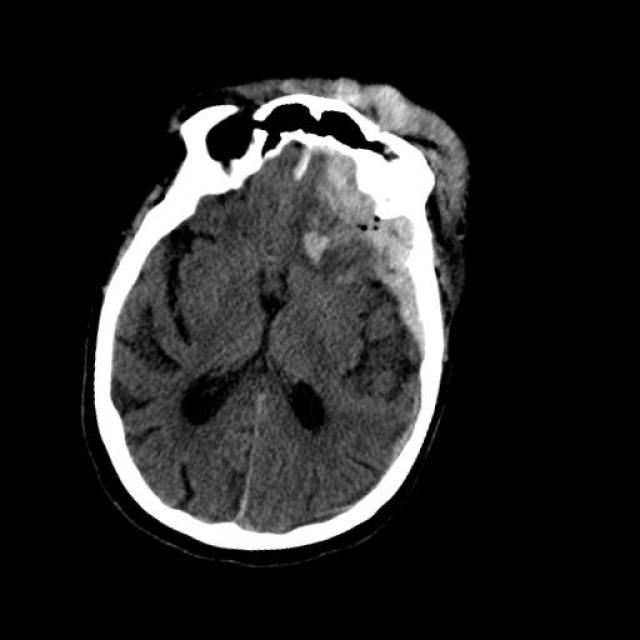Intraparenchymal: (273, 215, 347, 290)
Subdural: (284, 136, 493, 358)
